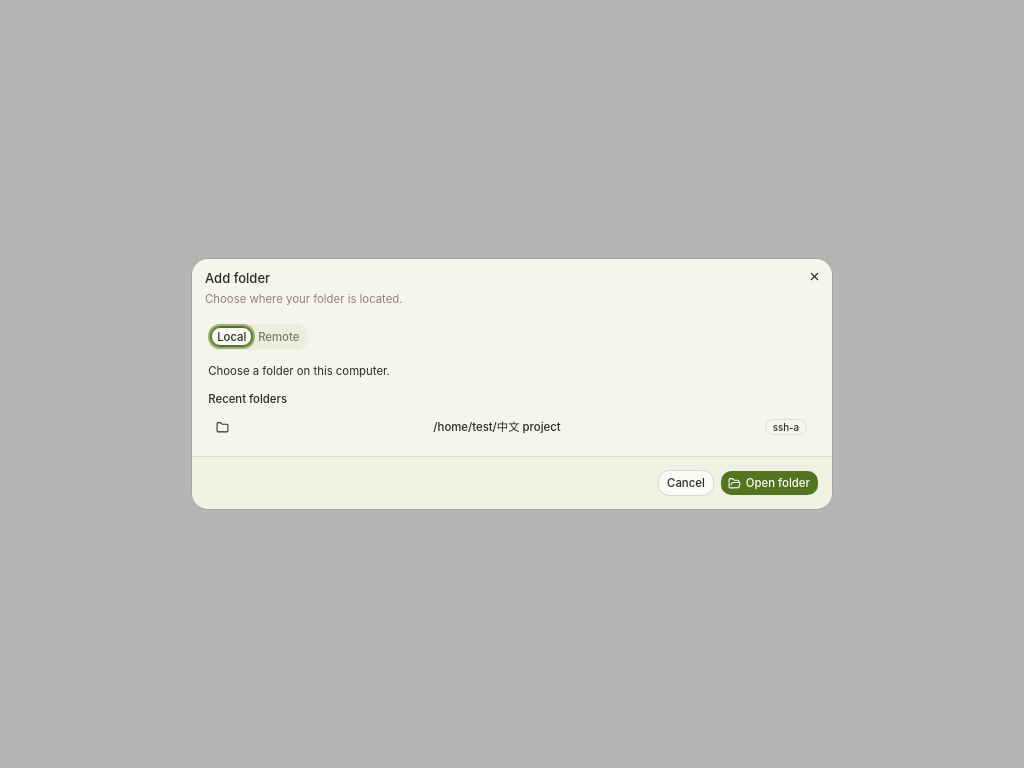
Test: does not reconnect a missing host using another host with the same name and path
Click the button "/home/test/中文 project ssh-a": {"x": 512, "y": 427} [208,414,816,440]
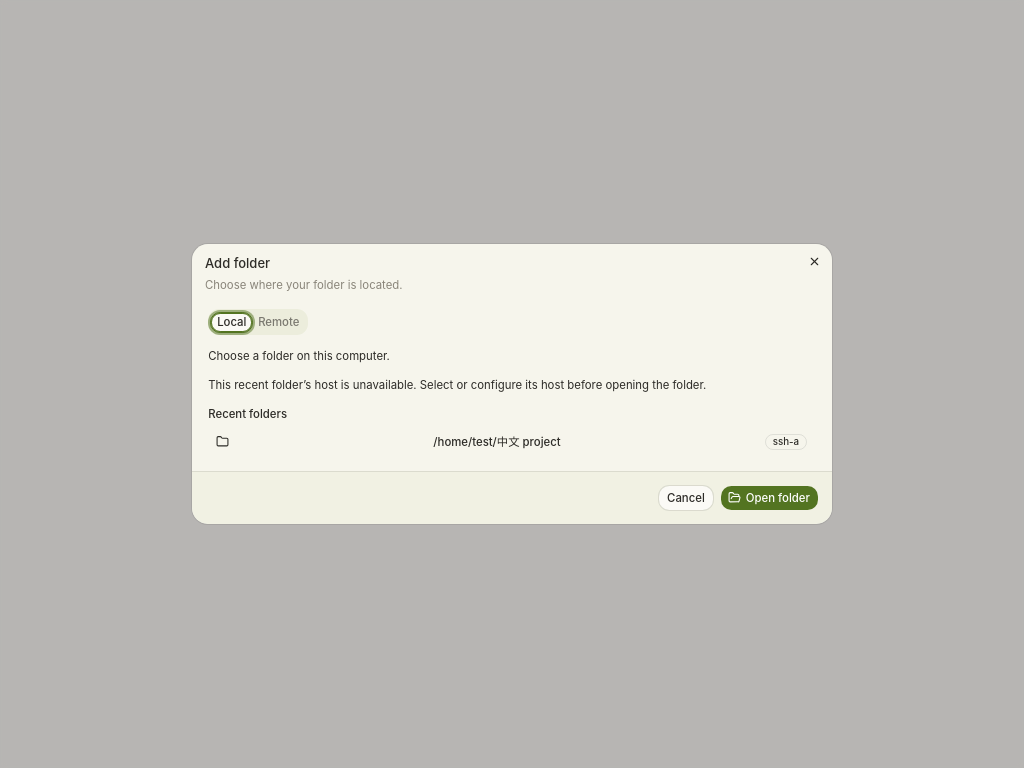
Result: the message shows "host is unavailable" at [208,378,706,392]
